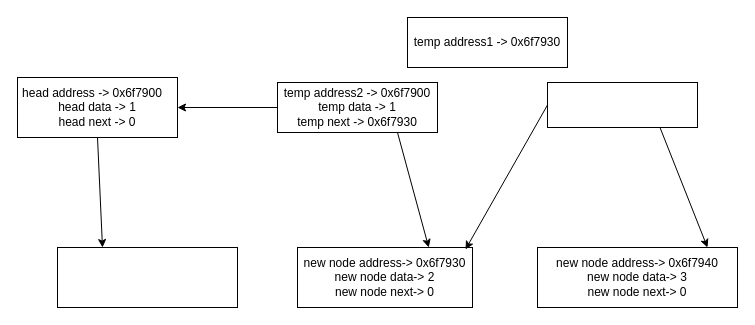
Image size: 755x325. Some labels were removed from this diagram. The shapes that lost their labels are listed below. From the top down, each one's centre as x and y in pixels, then its label:
At [622,105]: "temp address2 -> 0x6f7930 temp data -> 2 temp next -> 0x6f7940".
At [147,277]: "new node address-> 0x6f7900 new node data-> 1 new node next-> 0".
